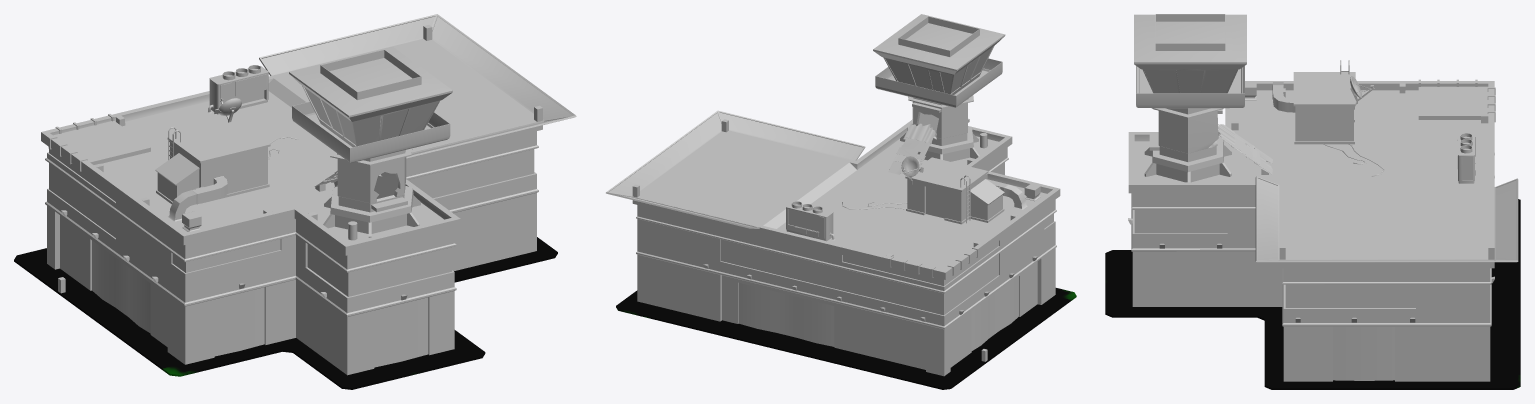
File: NhaChinh_BRC01.fbx
3 renders of one model, left to right at view 1: azimuth 30°, elevation 25°; view 2: azimuth 150°, elevation 25°; view 3: azimuth 270°, elevation 25°, orthographic. The views are drawn at different scales.
Parts seen in each view (by area): view 1: NC, NCC_choi_BRP01, NC_San_BRP01, NC_Gacmai_BRP01, NC_luoi_BRP01, NCC_lanrao_BRP01, NC_lancan_BRP01, NCM_Dh_BRP01, NCM_Thong_BRP01; view 2: NC, NCC_choi_BRP01, NC_San_BRP01, NC_Gacmai_BRP01, NC_luoi_BRP01, NCC_lanrao_BRP01, NC_lancan_BRP01, NCM_Dh_BRP01, NCC_ke_BRP01, NCM_Thong_BRP01; view 3: NC, NCC_choi_BRP01, NC_San_BRP01, NC_Gacmai_BRP01, NC_luoi_BRP01, NCC_lanrao_BRP01, NC_lancan_BRP01, NCM_Dh_BRP01, NCC_ke_BRP01, NCM_Thong_BRP01.
Part boxes in pixels (left/top/right/bottom): NC: left=41, top=38, right=542, bottom=375; NCC_choi_BRP01: left=289, top=46, right=452, bottom=237; NC_San_BRP01: left=14, top=237, right=557, bottom=389; NC_Gacmai_BRP01: left=155, top=120, right=270, bottom=204; NC_luoi_BRP01: left=262, top=16, right=572, bottom=155; NCC_lanrao_BRP01: left=292, top=49, right=450, bottom=162; NC_lancan_BRP01: left=259, top=14, right=576, bottom=158; NCM_Dh_BRP01: left=207, top=65, right=268, bottom=114; NCM_Thong_BRP01: left=168, top=176, right=227, bottom=221; NC: left=632, top=119, right=1060, bottom=376; NCC_choi_BRP01: left=873, top=14, right=1005, bottom=161; NC_San_BRP01: left=616, top=288, right=1076, bottom=389; NC_Gacmai_BRP01: left=905, top=157, right=1004, bottom=224; NC_luoi_BRP01: left=609, top=112, right=862, bottom=227; NCC_lanrao_BRP01: left=875, top=16, right=1002, bottom=107; NC_lancan_BRP01: left=606, top=110, right=865, bottom=228; NCM_Dh_BRP01: left=786, top=201, right=834, bottom=241; NCC_ke_BRP01: left=888, top=123, right=935, bottom=174; NCM_Thong_BRP01: left=988, top=180, right=1027, bottom=209; NC: left=1128, top=79, right=1495, bottom=381; NCC_choi_BRP01: left=1134, top=14, right=1246, bottom=182; NC_San_BRP01: left=1105, top=199, right=1520, bottom=389; NC_Gacmai_BRP01: left=1293, top=60, right=1355, bottom=144; NC_luoi_BRP01: left=1257, top=178, right=1516, bottom=259; NCC_lanrao_BRP01: left=1136, top=14, right=1244, bottom=107; NC_lancan_BRP01: left=1255, top=176, right=1518, bottom=262; NCM_Dh_BRP01: left=1457, top=131, right=1475, bottom=183; NCC_ke_BRP01: left=1218, top=124, right=1272, bottom=174; NCM_Thong_BRP01: left=1272, top=82, right=1295, bottom=112.
Bounding box in the file's own units: 2495 × 1513 × 2229.
